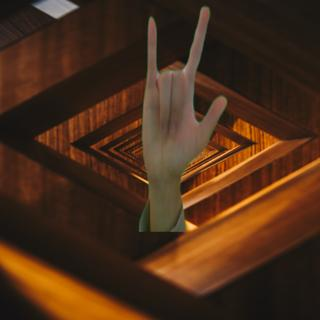ILY: (136, 2, 231, 186)
